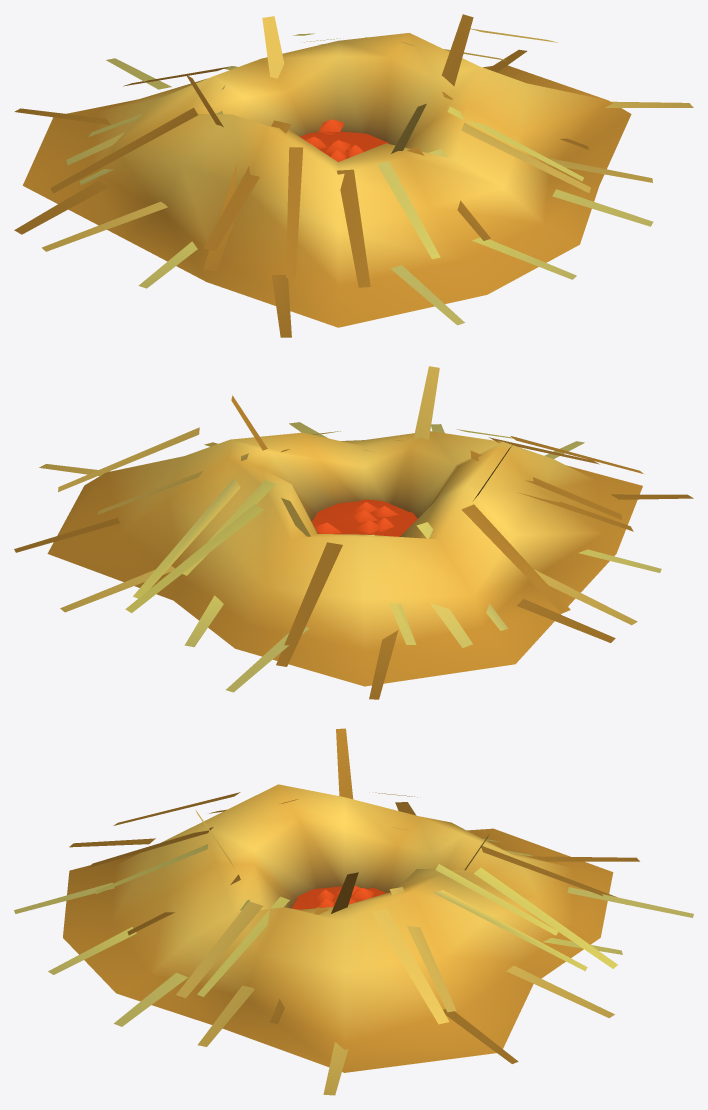
Rendered from straw-pile.glb.
3 renders of one model, top to bottom at view 1: azimuth 30°, elevation 25°; view 2: azimuth 150°, elevation 25°; view 3: azimuth 270°, elevation 25°, orthographic. The views are drawn at different scales.
Visible parts, largest first — view 1: straw_pile, embers; view 2: straw_pile, embers; view 3: straw_pile, embers.
Part boxes in pixels (left/top/right/bottom): straw_pile: left=14, top=14, right=693, bottom=337; embers: left=300, top=119, right=388, bottom=161; straw_pile: left=14, top=366, right=693, bottom=699; embers: left=312, top=499, right=417, bottom=536; straw_pile: left=14, top=728, right=693, bottom=1095; embers: left=291, top=885, right=386, bottom=909.
Size of the model in its own units: 1.39 by 0.3067 by 1.36.
